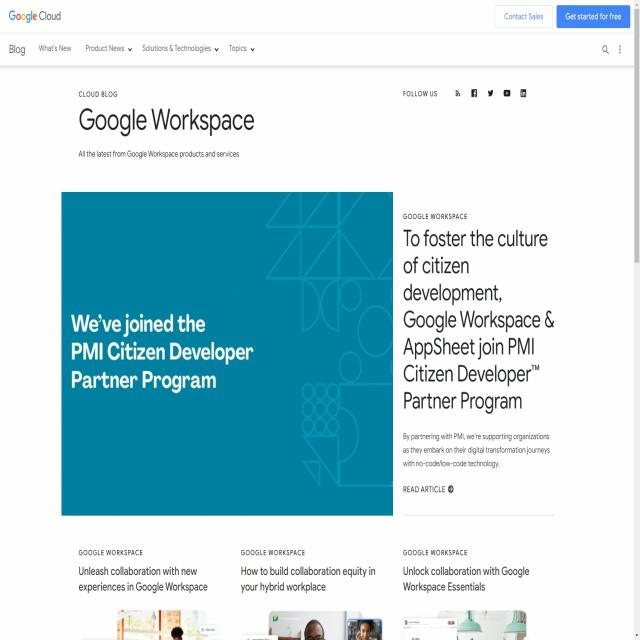menu-bar: (34, 33, 260, 65)
